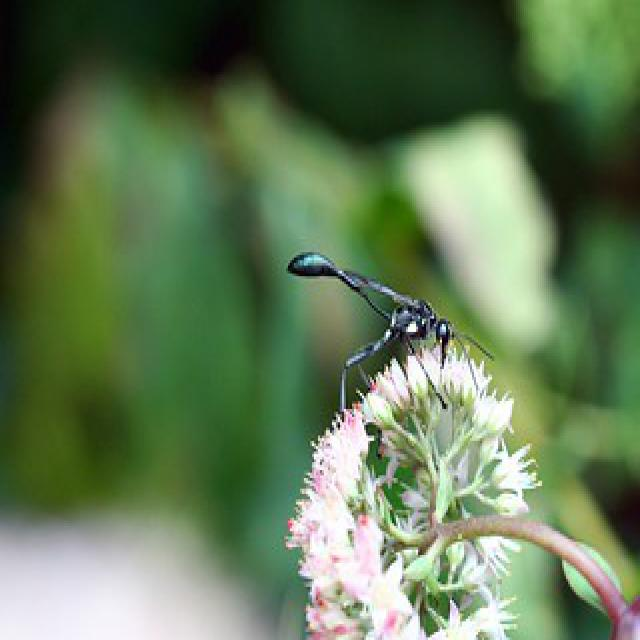Guepe: (274, 233, 510, 427)
